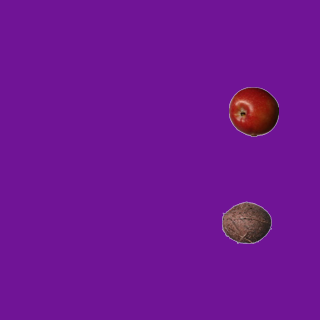Apple Braeburn: (228, 86, 278, 136)
Cocos: (221, 197, 271, 247)
